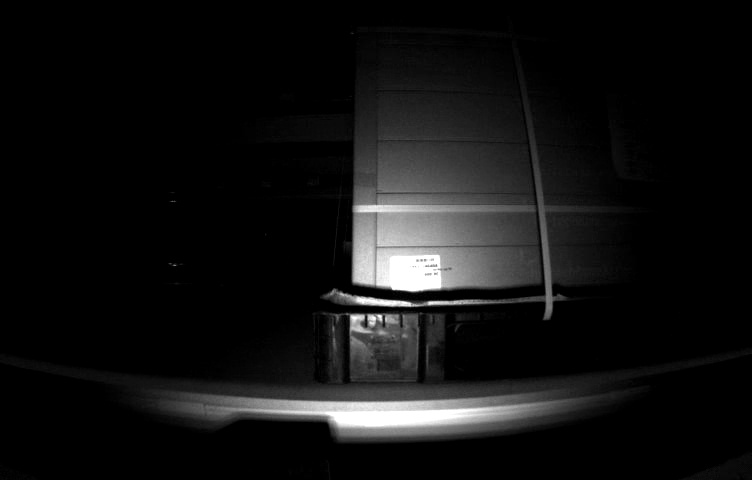True Barcode: (392, 254, 438, 292)
